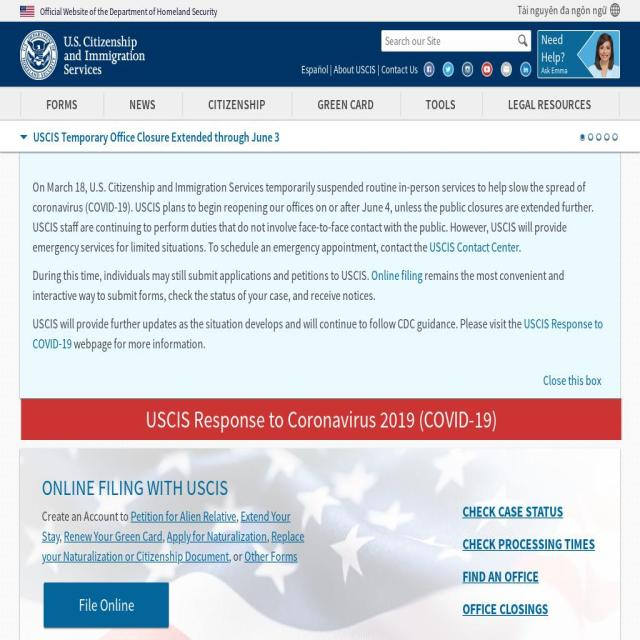button: (44, 582, 168, 628), (482, 88, 618, 120), (182, 88, 291, 120), (291, 88, 400, 120), (0, 0, 640, 5), (20, 88, 104, 120), (400, 88, 482, 120), (103, 88, 183, 120)
field: (381, 30, 531, 52)
image: (20, 30, 145, 80), (20, 5, 34, 17), (423, 62, 435, 76), (442, 62, 454, 76), (610, 2, 620, 18), (462, 62, 473, 76), (501, 62, 512, 76), (520, 62, 531, 76), (482, 62, 492, 76), (20, 130, 30, 142), (580, 132, 584, 138)
link: (33, 315, 603, 352), (146, 404, 497, 434), (42, 528, 304, 564), (42, 508, 290, 544), (463, 534, 595, 554), (463, 502, 563, 520), (131, 508, 236, 524), (167, 528, 267, 544), (64, 528, 162, 544), (429, 238, 519, 255), (463, 600, 548, 618), (462, 566, 538, 586), (245, 548, 298, 564), (372, 267, 422, 283), (333, 62, 376, 76), (380, 62, 418, 76), (301, 62, 328, 76)
text: (32, 178, 594, 255), (32, 267, 564, 303), (20, 448, 320, 506), (32, 315, 524, 332), (32, 267, 372, 283), (33, 125, 279, 146), (72, 335, 206, 352), (39, 5, 218, 17), (517, 2, 607, 18), (41, 508, 130, 524), (538, 31, 573, 66), (543, 370, 601, 390), (538, 66, 620, 75), (229, 548, 244, 564), (375, 62, 381, 76), (59, 528, 64, 544), (162, 528, 167, 544), (328, 62, 333, 76), (267, 528, 271, 544), (236, 508, 239, 524), (519, 238, 521, 255)
